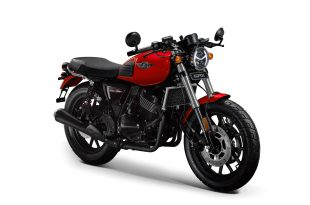motorcycle: (60, 35, 259, 192)
